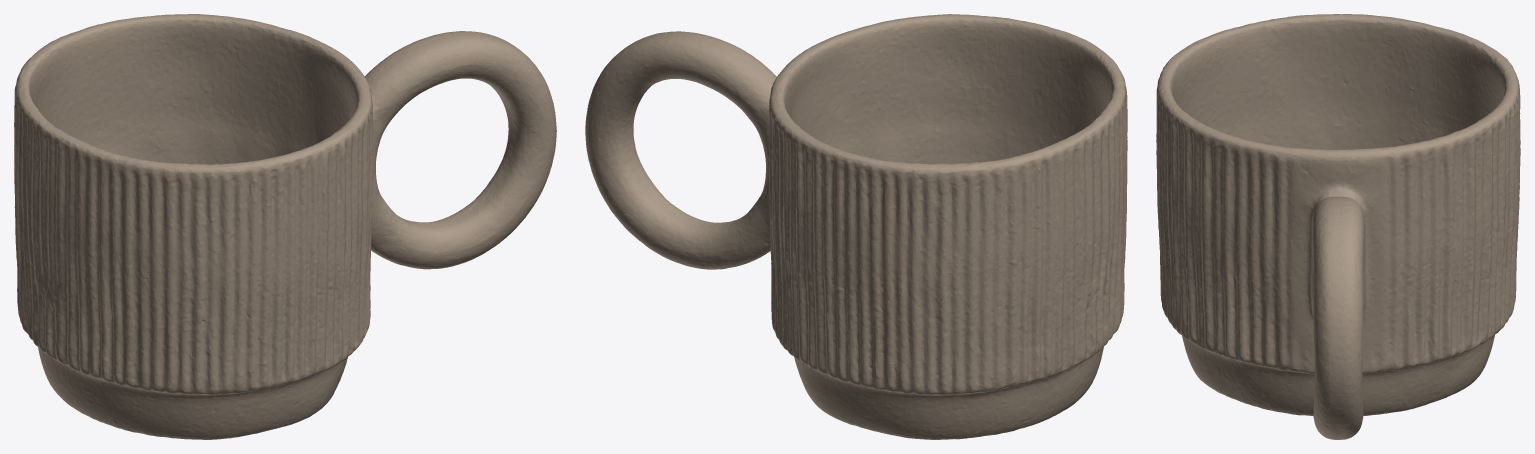
The picture shows the model from 3 angles, left to right: view 1: azimuth 30°, elevation 25°; view 2: azimuth 150°, elevation 25°; view 3: azimuth 270°, elevation 25°; orthographic projection. The views are drawn at different scales.
Visible parts, largest first — view 1: Mesh10; view 2: Mesh10; view 3: Mesh10.
Boxes of the visible parts, x1,y1,x2,y2 form: Mesh10: [14, 14, 556, 439]; Mesh10: [585, 14, 1127, 439]; Mesh10: [1156, 14, 1520, 439].
Bounding box in the file's own units: 1.9 × 1.03 × 1.22.
